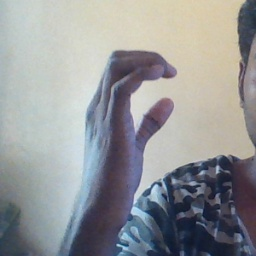C: (100, 42, 191, 155)
